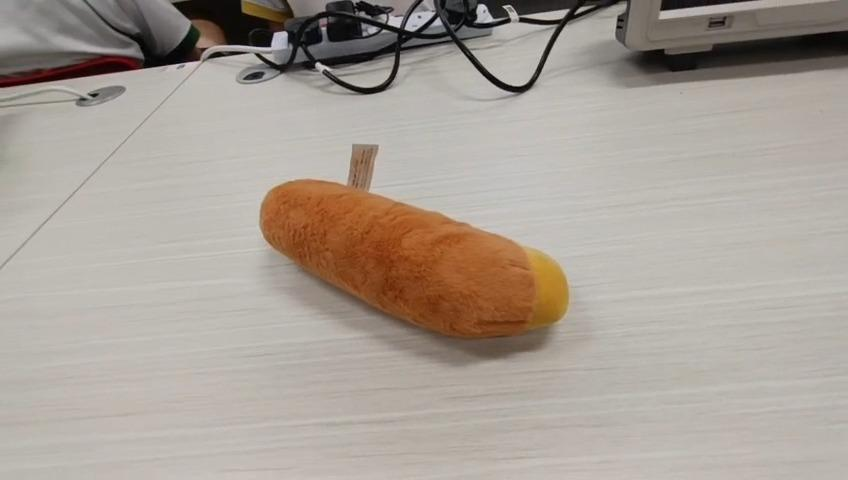hotdog: (258, 176, 569, 339)
